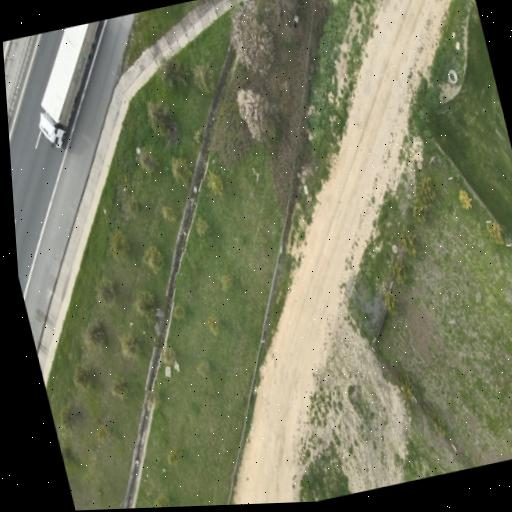truck: (39, 21, 99, 147)
